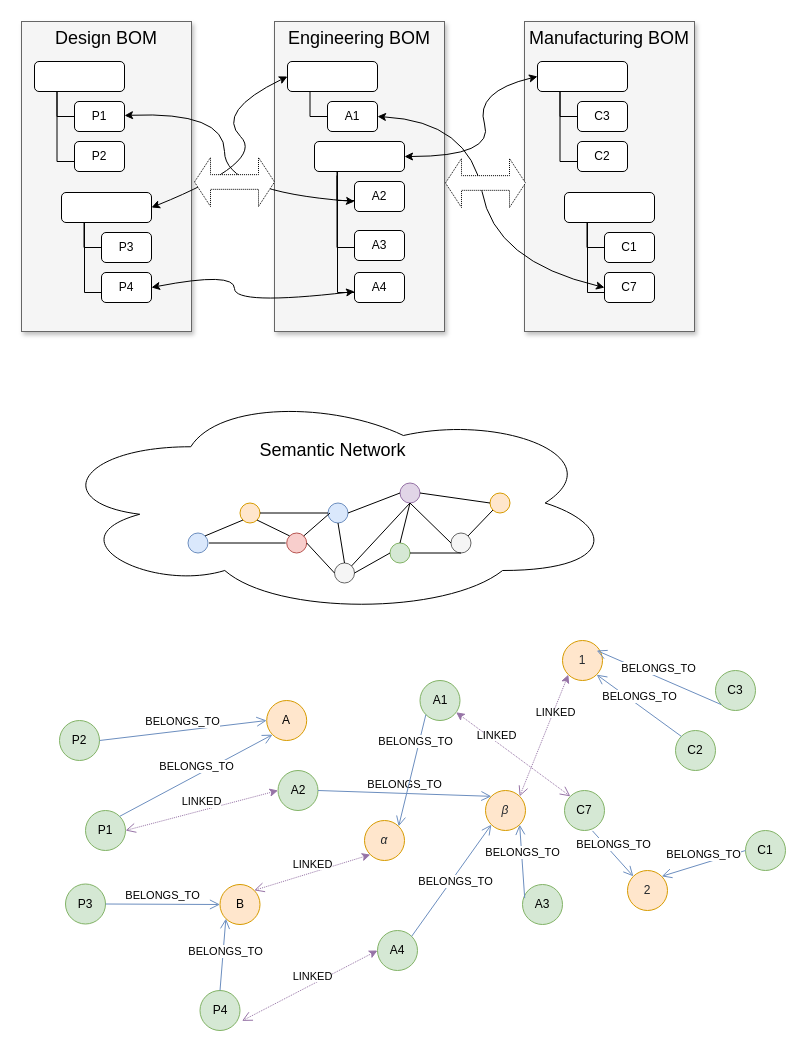
Image size: 803x1049. Some labels were removed from this diagram. Each missing label, with the centre of its shape:
Assembly 1: the point at 582,76
Assembly 2: the point at 609,207
Assembly A: the point at 79,76
Assembly B: the point at 106,207
Assembly α: the point at 332,76
Assembly β: the point at 359,156
